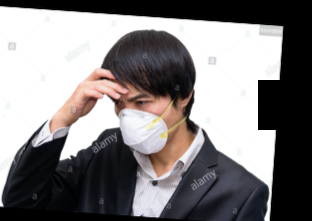with_mask: (113, 91, 179, 155)
